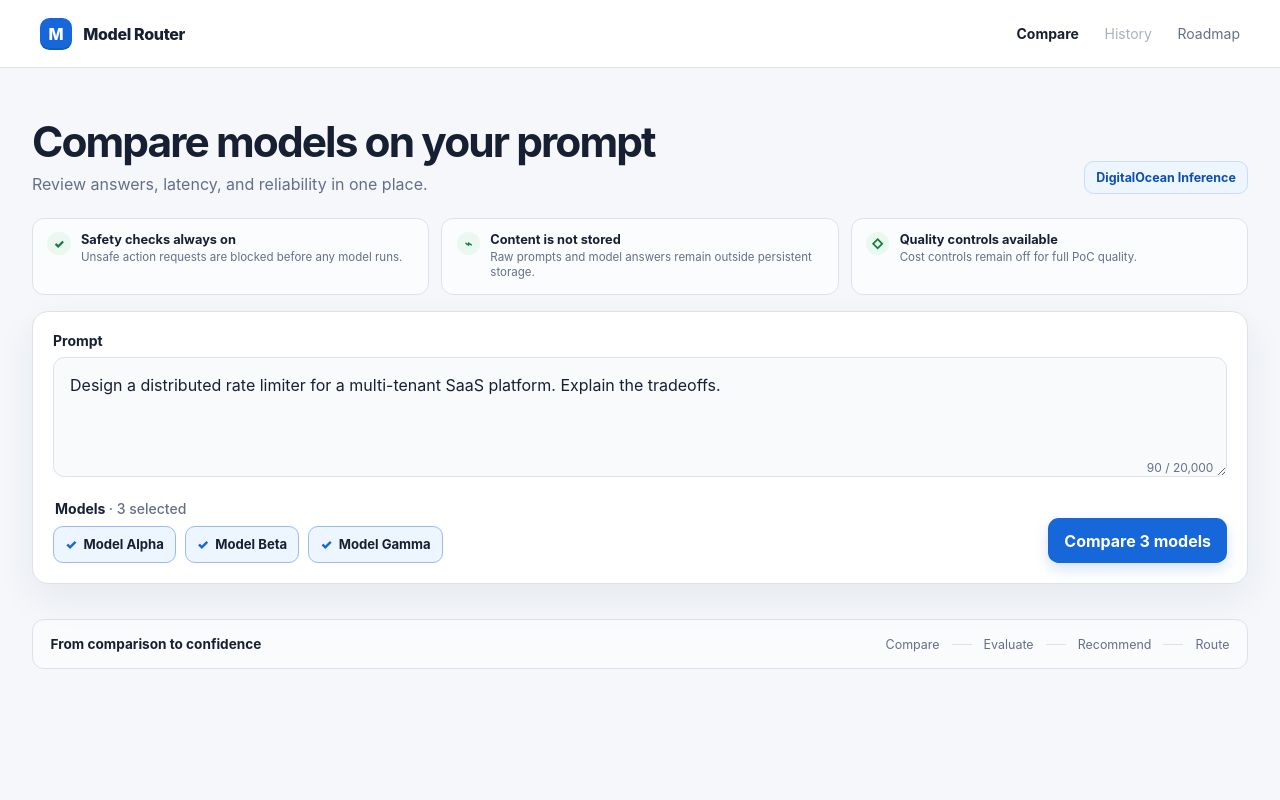
Scenario: ComparisonWorkspace › renders streamed success and isolated failure states
The width and height of the screenshot is (1280, 800).
expect the text "Model Alpha" is shown: met, box [84, 536, 164, 552]
Click the button "Compare 3 models".
click(1138, 541)  # box [1048, 518, 1227, 563]
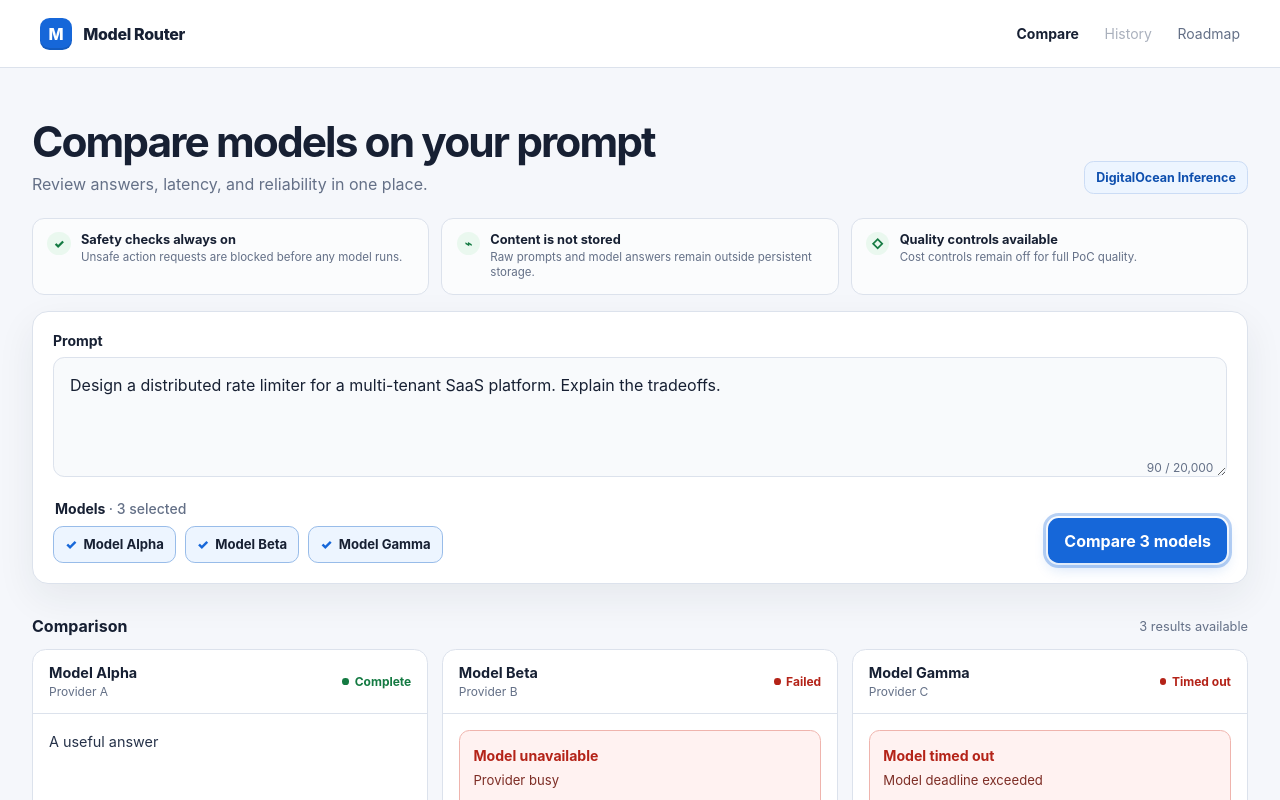
expect the text "A useful answer" is shown: met, box [49, 733, 158, 750]
expect the text "Provider busy" is shown: met, box [474, 772, 559, 788]
expect the text "Model timed out" is shown: met, box [883, 747, 994, 764]
